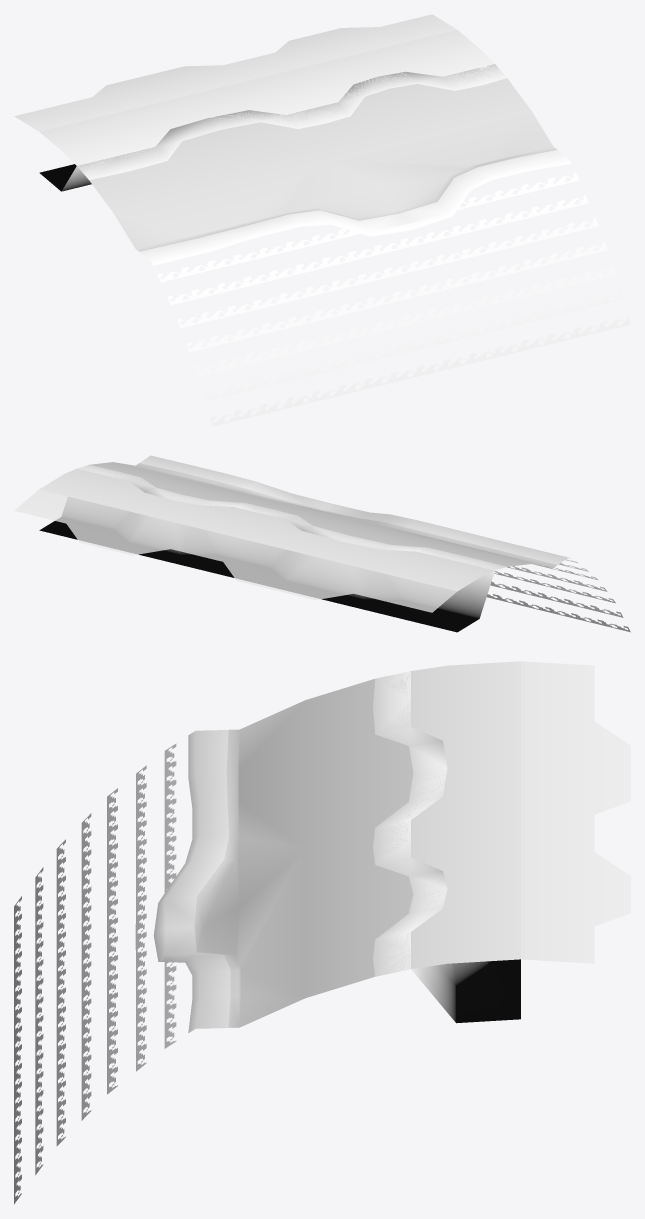
The model's file is grd_In_2.dae.
3 views of the same model, one above another, from view 1: azimuth 30°, elevation 25°; view 2: azimuth 150°, elevation 25°; view 3: azimuth 270°, elevation 25° (orthographic). The views are drawn at different scales.
Parts seen in each view (by area): view 1: beach_0_0, grass_3_0, ocean_4_0, wave_5_0, beach_1_0, beach_cliff_2_0; view 2: beach_1_0, wave_5_0, ocean_4_0, beach_0_0, beach_cliff_2_0, grass_3_0; view 3: beach_0_0, wave_5_0, ocean_4_0, beach_1_0, grass_3_0, beach_cliff_2_0.
Boxes of the visible parts, x1,y1,x2,y2 form: beach_0_0: (89,78,557,251); grass_3_0: (157,172,630,426); ocean_4_0: (40,30,505,178); wave_5_0: (14,14,502,173); beach_1_0: (39,64,506,191); beach_cliff_2_0: (139,150,570,265); beach_1_0: (39,465,506,632); wave_5_0: (14,467,502,612); ocean_4_0: (39,465,503,591); beach_0_0: (89,462,556,567); beach_cliff_2_0: (140,455,570,564); grass_3_0: (486,559,630,632); beach_0_0: (194,679,413,1027); wave_5_0: (379,661,630,973); ocean_4_0: (373,661,520,976); beach_1_0: (373,671,520,1023); grass_3_0: (14,743,176,1204); beach_cliff_2_0: (153,730,238,1032).
Bounding box in the file's own units: 512 × 196 × 448.
6 materials, 1 textured.
